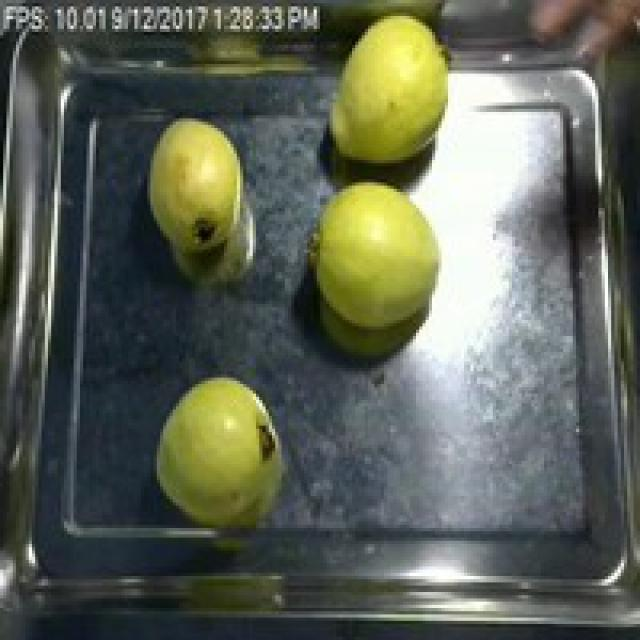Fruit: (301, 170, 454, 336), (148, 368, 294, 531), (323, 3, 461, 173), (138, 109, 256, 262)
